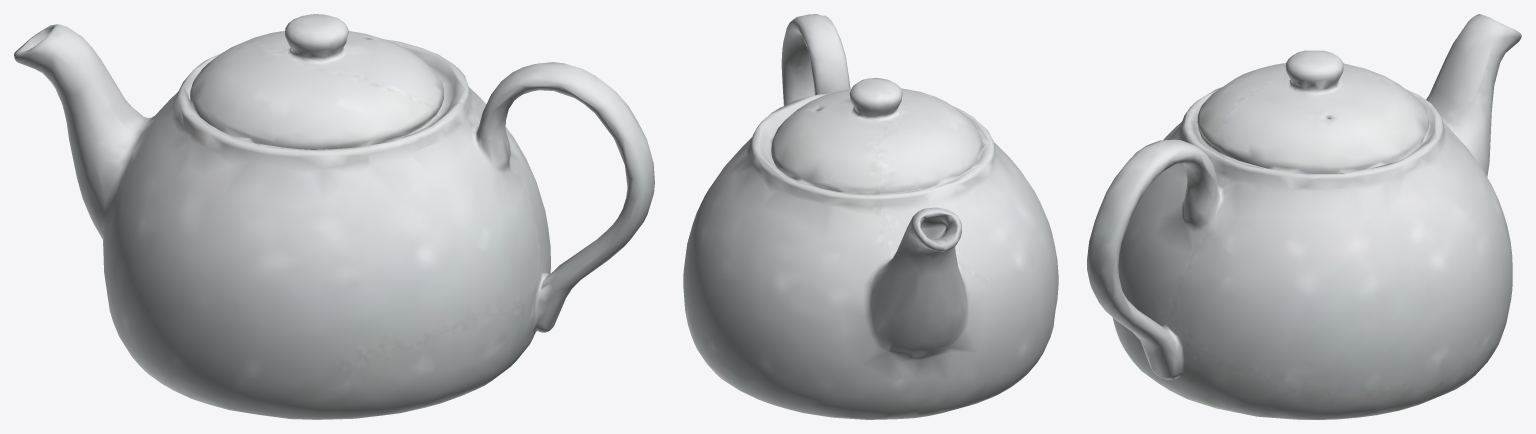
The model's file is Threshold_Porcelain_Teapot_White-high.glb.
3 renders of one model, left to right at view 1: azimuth 30°, elevation 25°; view 2: azimuth 150°, elevation 25°; view 3: azimuth 270°, elevation 25°, orthographic. The views are drawn at different scales.
Parts seen in each view (by area): view 1: Threshold_Porcelain_Teapot_White; view 2: Threshold_Porcelain_Teapot_White; view 3: Threshold_Porcelain_Teapot_White.
Part boxes in pixels (box(x1,y1,x2,y2)): Threshold_Porcelain_Teapot_White: box(14, 14, 654, 419); Threshold_Porcelain_Teapot_White: box(683, 14, 1058, 419); Threshold_Porcelain_Teapot_White: box(1087, 14, 1521, 419).
Size of the model in its own units: 0.1867 by 0.1362 by 0.1843.
1 material, 1 textured.
